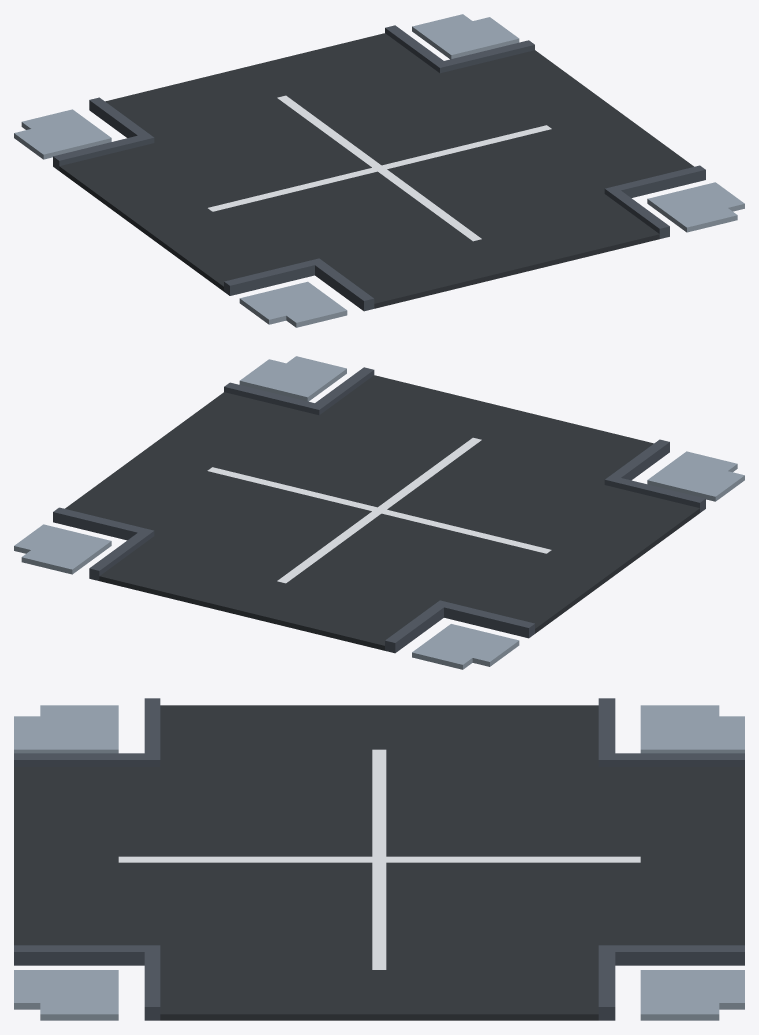
Rendered from road4.glb.
3 views of the same model, one above another, from view 1: azimuth 30°, elevation 25°; view 2: azimuth 150°, elevation 25°; view 3: azimuth 270°, elevation 25° (orthographic). The views are drawn at different scales.
Parts seen in each view (by area): view 1: Cube.026; view 2: Cube.026; view 3: Cube.026.
Boxes of the visible parts, <box> form: Cube.026: <box>14,14,744,327</box>; Cube.026: <box>14,356,744,669</box>; Cube.026: <box>14,698,744,1020</box>.
Size of the model in its own units: 10 by 0.2072 by 10.
